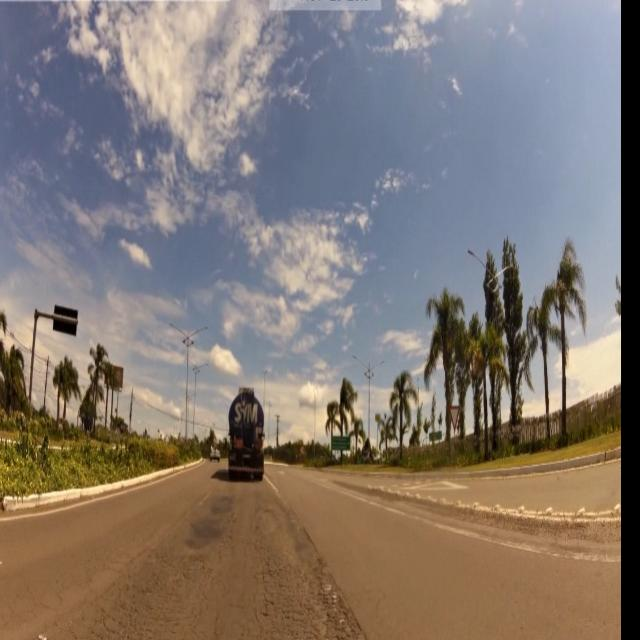R-2: (446, 402, 462, 429)
